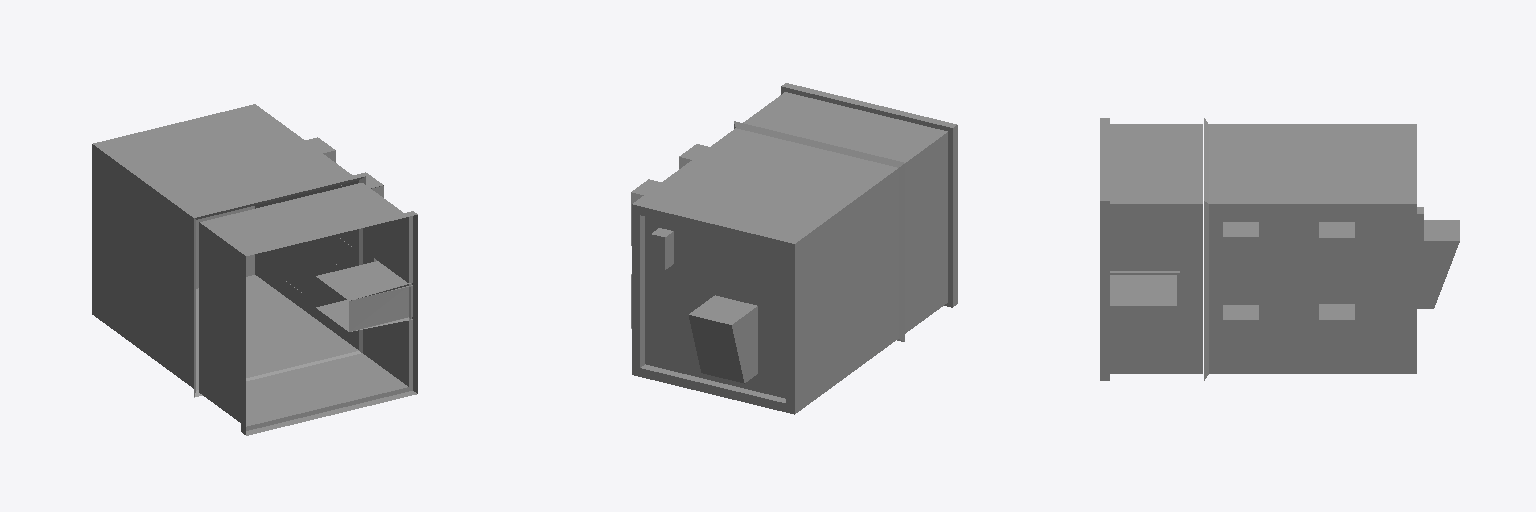
The model's file is building.obj.
3 views of the same model, side by side, from view 1: azimuth 30°, elevation 25°; view 2: azimuth 150°, elevation 25°; view 3: azimuth 270°, elevation 25° (orthographic).
Visible parts, largest first — view 1: Plane; view 2: Plane; view 3: Plane.
Part boxes in pixels (x1,y1,x2,y2): Plane: (92,104,417,435); Plane: (631,83,957,414); Plane: (1100,118,1459,380).
Size of the model in its own units: 1.16 by 1 by 1.82.